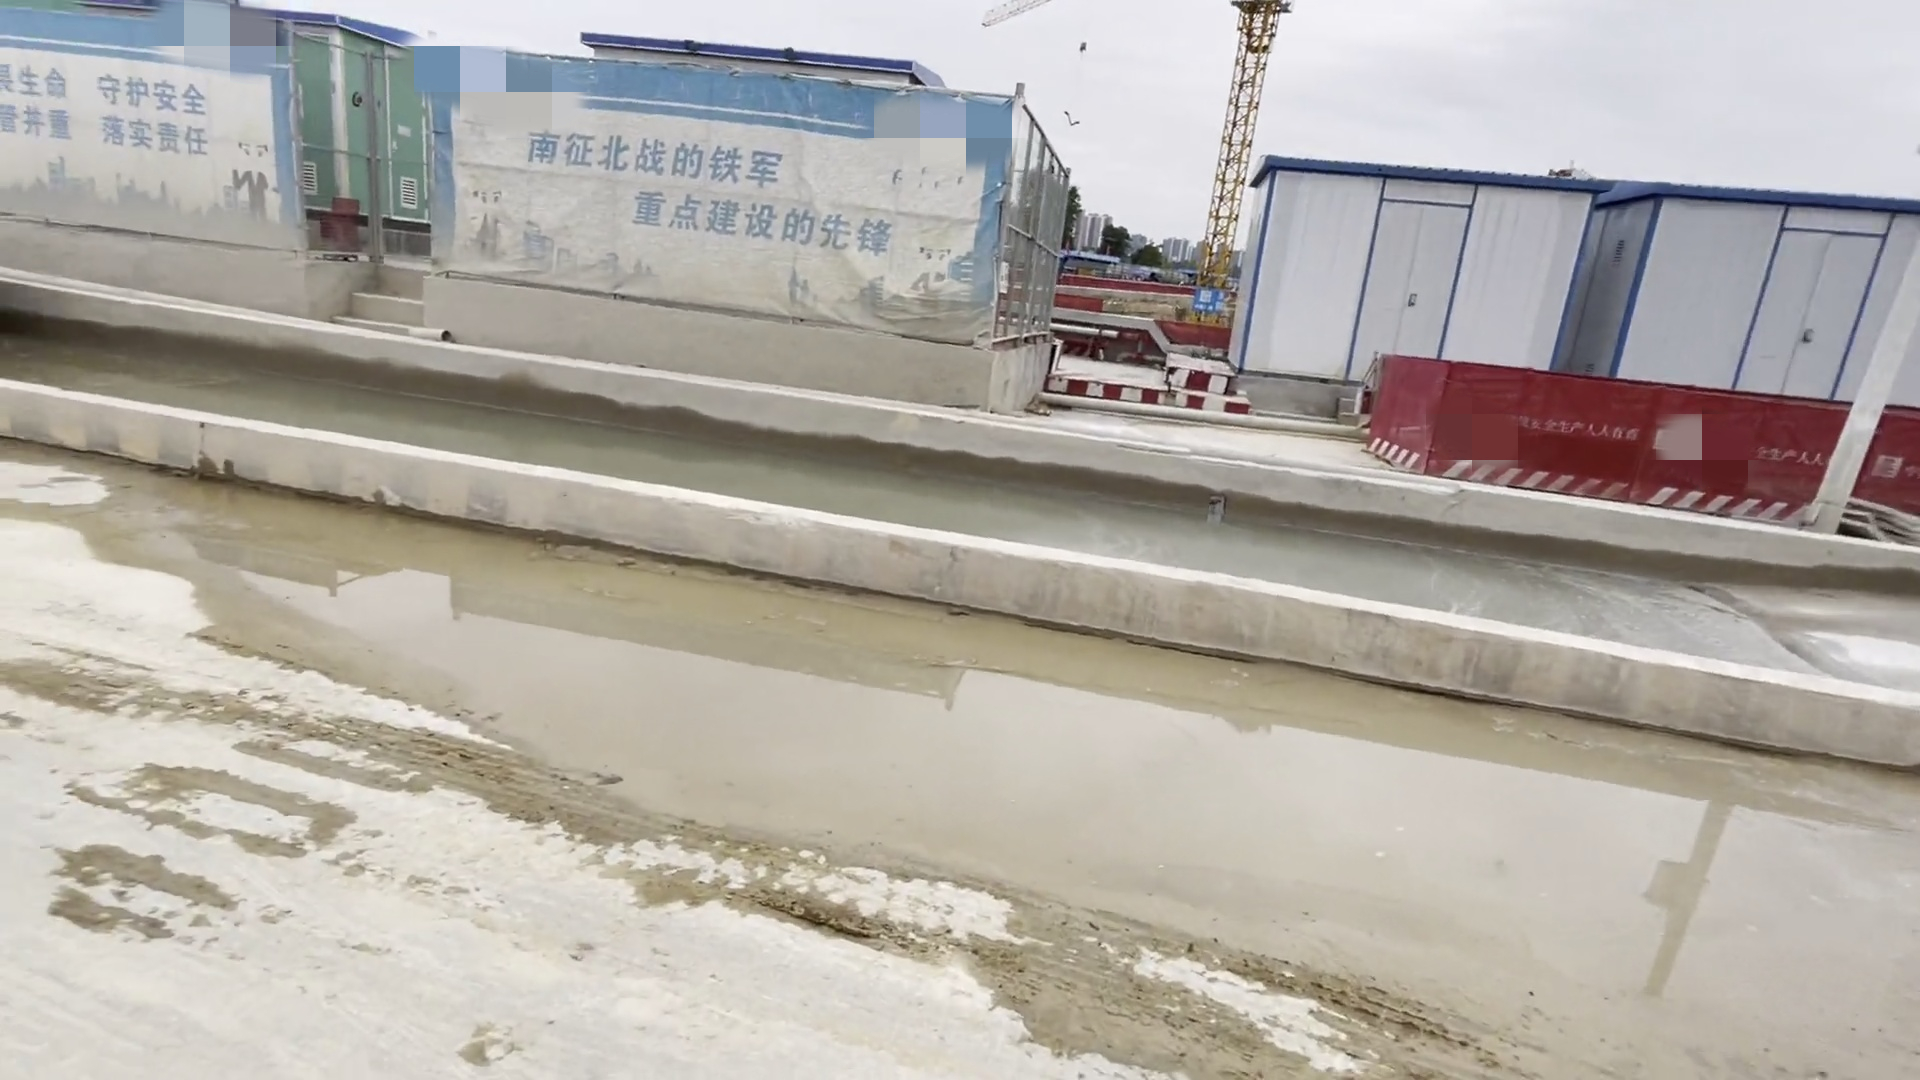fence: (1358, 349, 1920, 531)
slogan: (1, 22, 1006, 400)
